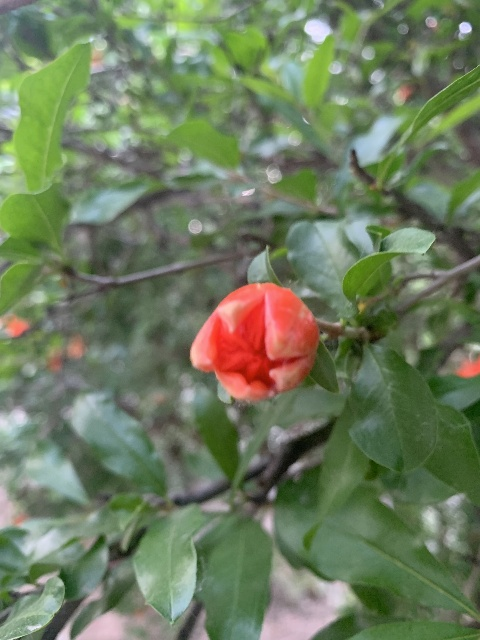flower: (189, 282, 319, 403)
